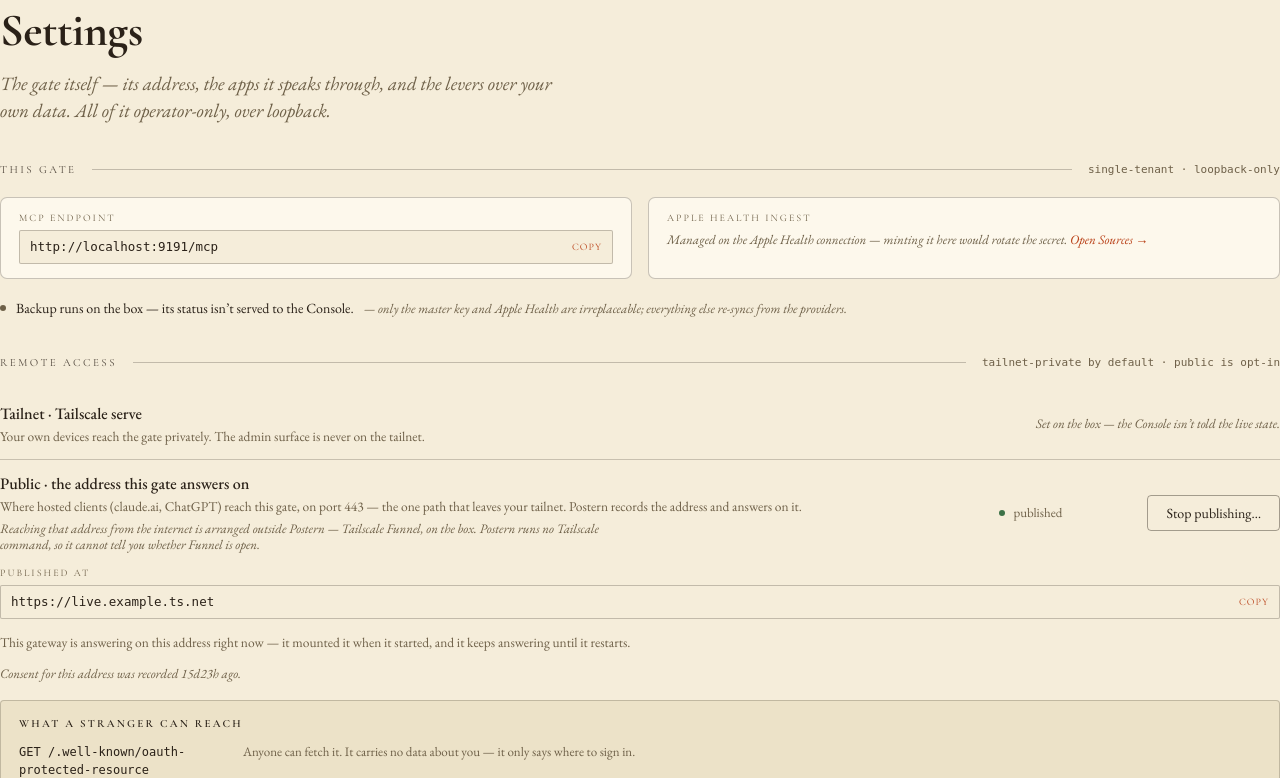
Test: Remote access — publishing this gate to the internet › a Stop the gateway refuses is never reported as success
Step 1. Click the button "Stop publishing…" → (1214, 513), box [1147,495,1279,531]
(page scrolled)
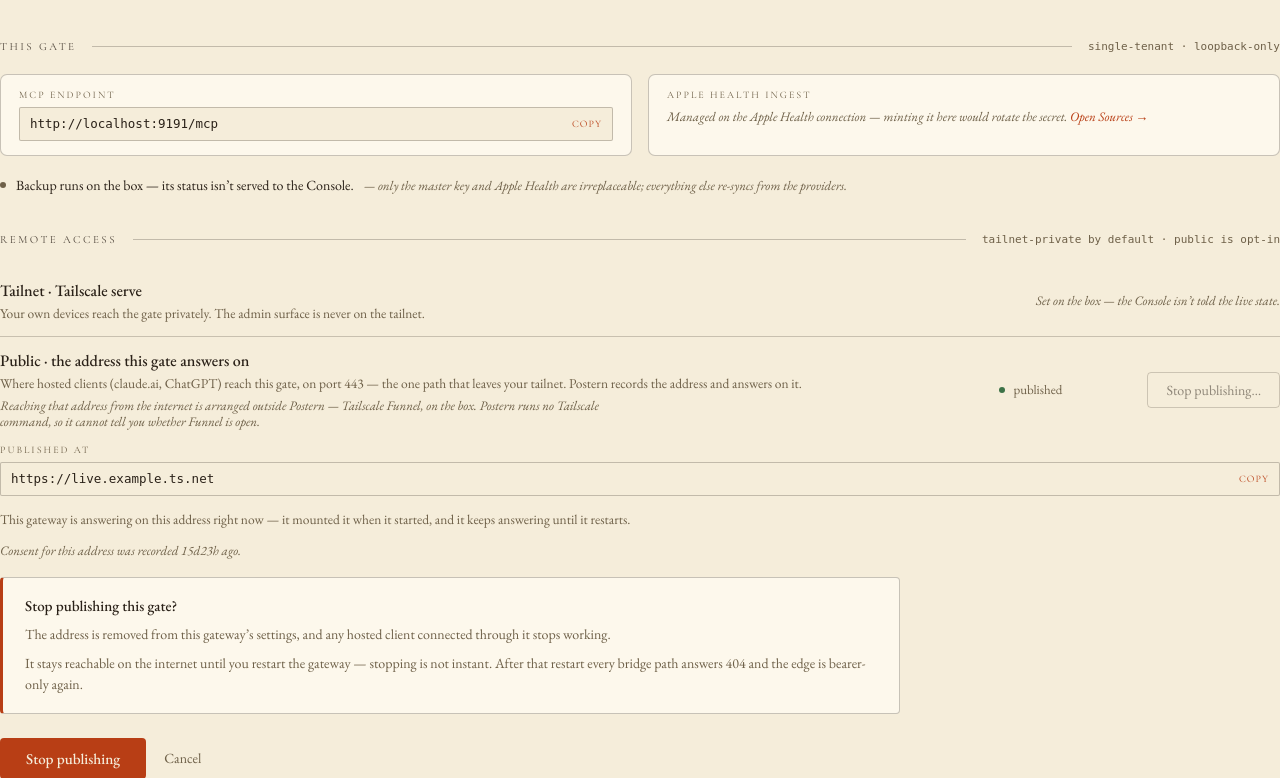
Step 2. Click the button "Stop publishing" → (73, 758), box [0,738,146,777]
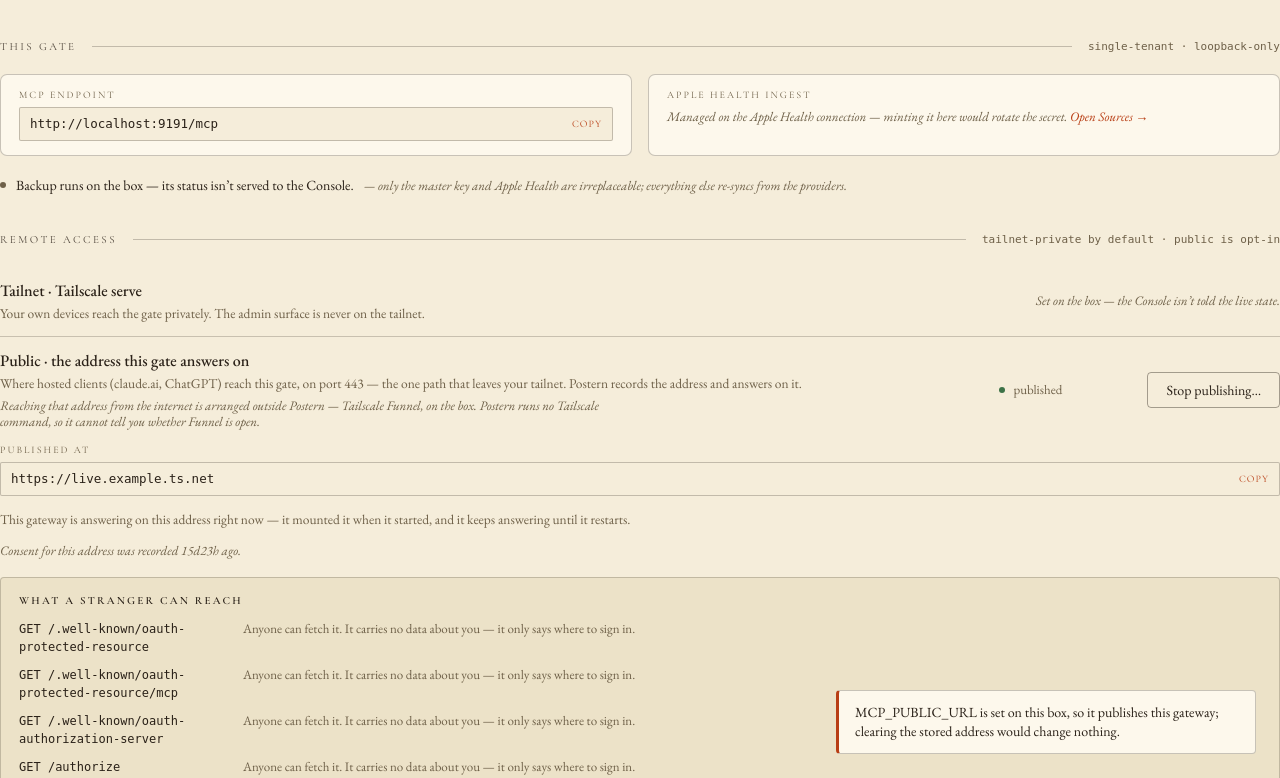
Expected: the text "MCP_PUBLIC_URL is set on this box, so it publishes this gateway; clearing the stored address would change nothing." is shown, [855,703,1219,740]
